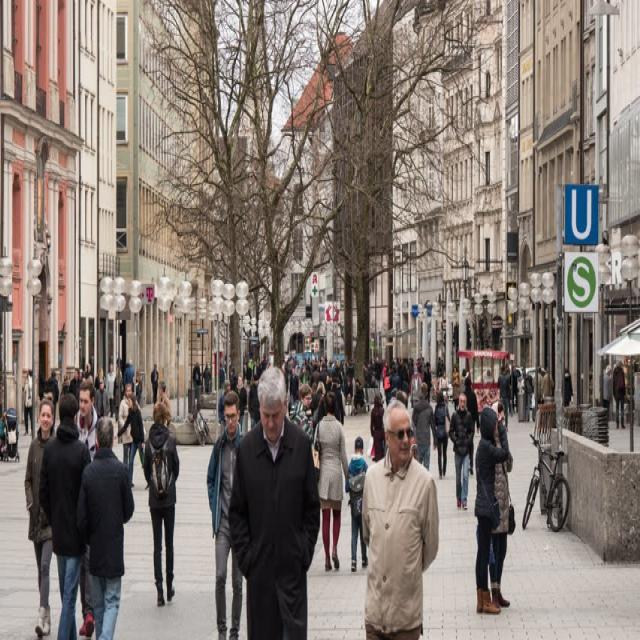body: (228, 364, 320, 639), (360, 394, 439, 638), (38, 389, 92, 639), (74, 414, 134, 638), (205, 388, 244, 640), (23, 397, 59, 640), (142, 397, 180, 608), (472, 405, 510, 615), (74, 378, 100, 640), (312, 389, 349, 572), (488, 400, 516, 609), (112, 392, 150, 492), (344, 436, 370, 572), (448, 389, 474, 511), (411, 381, 437, 471), (117, 382, 141, 469), (462, 375, 480, 476), (288, 381, 315, 444), (432, 391, 451, 480), (320, 352, 355, 391), (369, 393, 387, 464), (612, 360, 626, 431), (235, 372, 249, 437), (45, 369, 59, 434), (248, 372, 262, 429), (217, 380, 232, 431), (22, 368, 33, 437), (497, 364, 509, 427), (523, 369, 536, 423), (113, 356, 124, 419), (94, 376, 110, 419), (113, 365, 124, 427), (105, 358, 116, 418), (602, 363, 612, 425), (449, 364, 461, 415), (156, 377, 172, 415), (68, 365, 84, 403), (282, 348, 320, 363), (277, 362, 289, 409), (78, 353, 94, 388), (532, 365, 544, 411), (501, 361, 512, 411), (438, 368, 449, 417), (509, 362, 519, 414), (409, 369, 422, 408), (122, 359, 136, 393), (352, 376, 364, 415), (400, 361, 410, 407), (192, 359, 202, 404), (289, 368, 300, 408), (150, 362, 160, 406), (540, 367, 554, 397), (0, 401, 7, 460), (564, 367, 574, 408), (373, 353, 382, 396), (362, 356, 373, 391), (390, 353, 414, 368), (382, 369, 391, 408), (134, 368, 142, 411), (390, 388, 408, 407), (94, 365, 107, 391), (202, 363, 212, 396), (310, 361, 322, 388), (458, 368, 470, 393), (425, 366, 432, 406), (254, 355, 262, 388), (343, 376, 354, 400), (417, 354, 425, 386), (228, 367, 238, 392), (516, 372, 526, 396), (218, 361, 226, 391), (413, 355, 421, 384), (245, 360, 252, 393), (439, 359, 446, 392), (390, 368, 400, 391), (301, 363, 311, 385), (482, 368, 494, 385), (224, 352, 231, 380), (242, 349, 254, 364), (252, 359, 260, 381), (382, 360, 388, 388), (437, 355, 442, 388), (62, 372, 69, 388), (260, 354, 266, 370), (442, 388, 448, 403)
